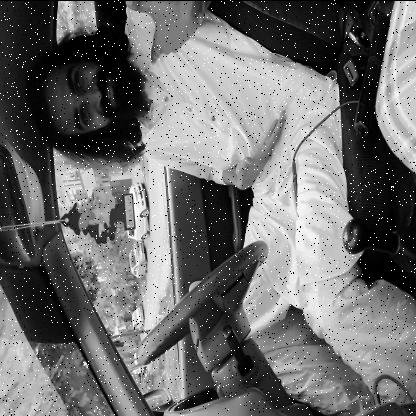no_seatbelt: (22, 41, 286, 184)
